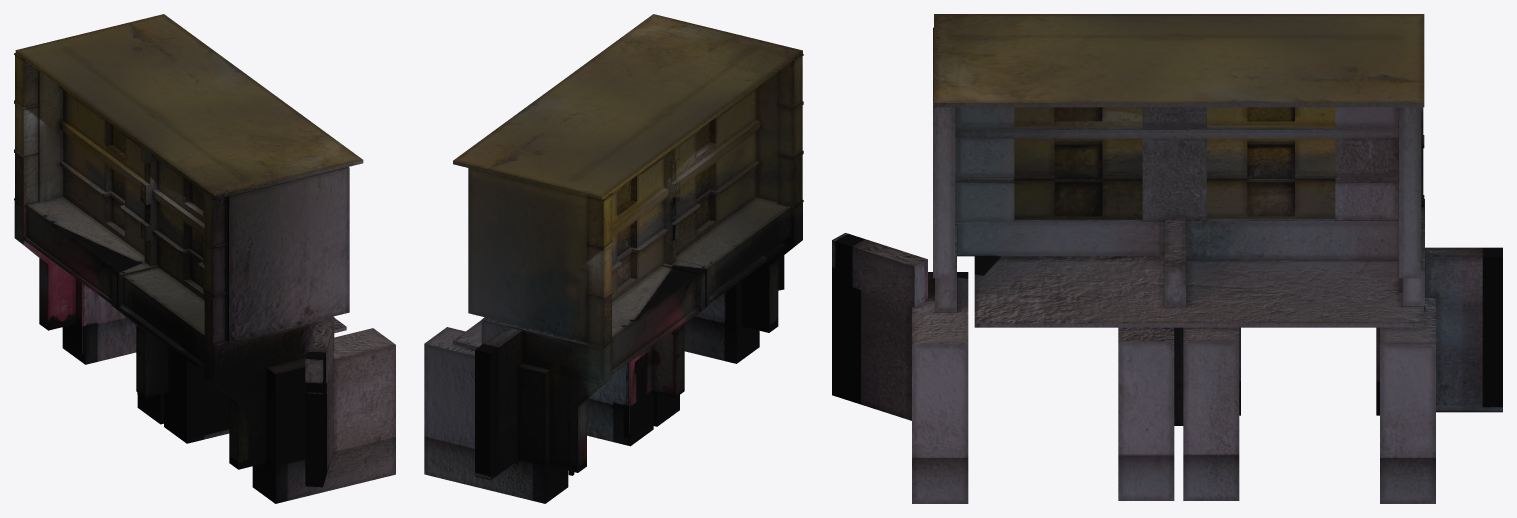
The picture shows the model from 3 angles, left to right: view 1: azimuth 30°, elevation 25°; view 2: azimuth 150°, elevation 25°; view 3: azimuth 270°, elevation 25°; orthographic projection. The views are drawn at different scales.
Parts seen in each view (by area): view 1: b1; view 2: b1; view 3: b1.
Part boxes in pixels (box(x1,y1,x2,y2)): b1: box(14, 14, 395, 503); b1: box(424, 14, 803, 503); b1: box(832, 14, 1502, 503).
Size of the model in its own units: 10.97 by 18.94 by 29.8.
Materials: 1 (1 with a texture image).
